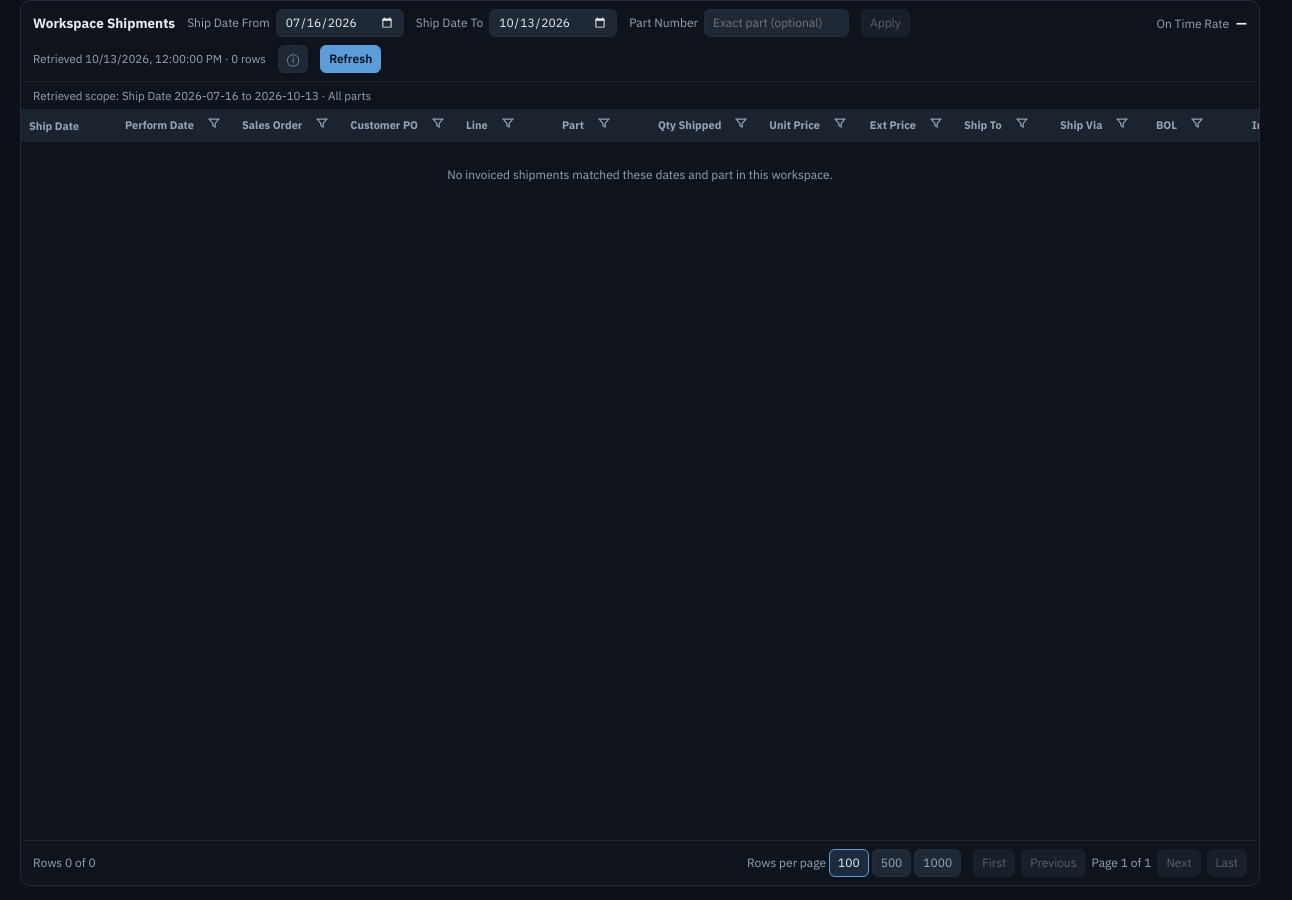
Test: Workspace Shipments panel (mocked generated client only) › states that blank dates mean all available history and rejects an inverted range
Expected: the text "No invoiced shipments matched these dates and part in this workspace." is shown, [447,167,833,182]
Clear the date field labelled "Ship Date From". click: (340, 23)
box: [276,9,404,37]
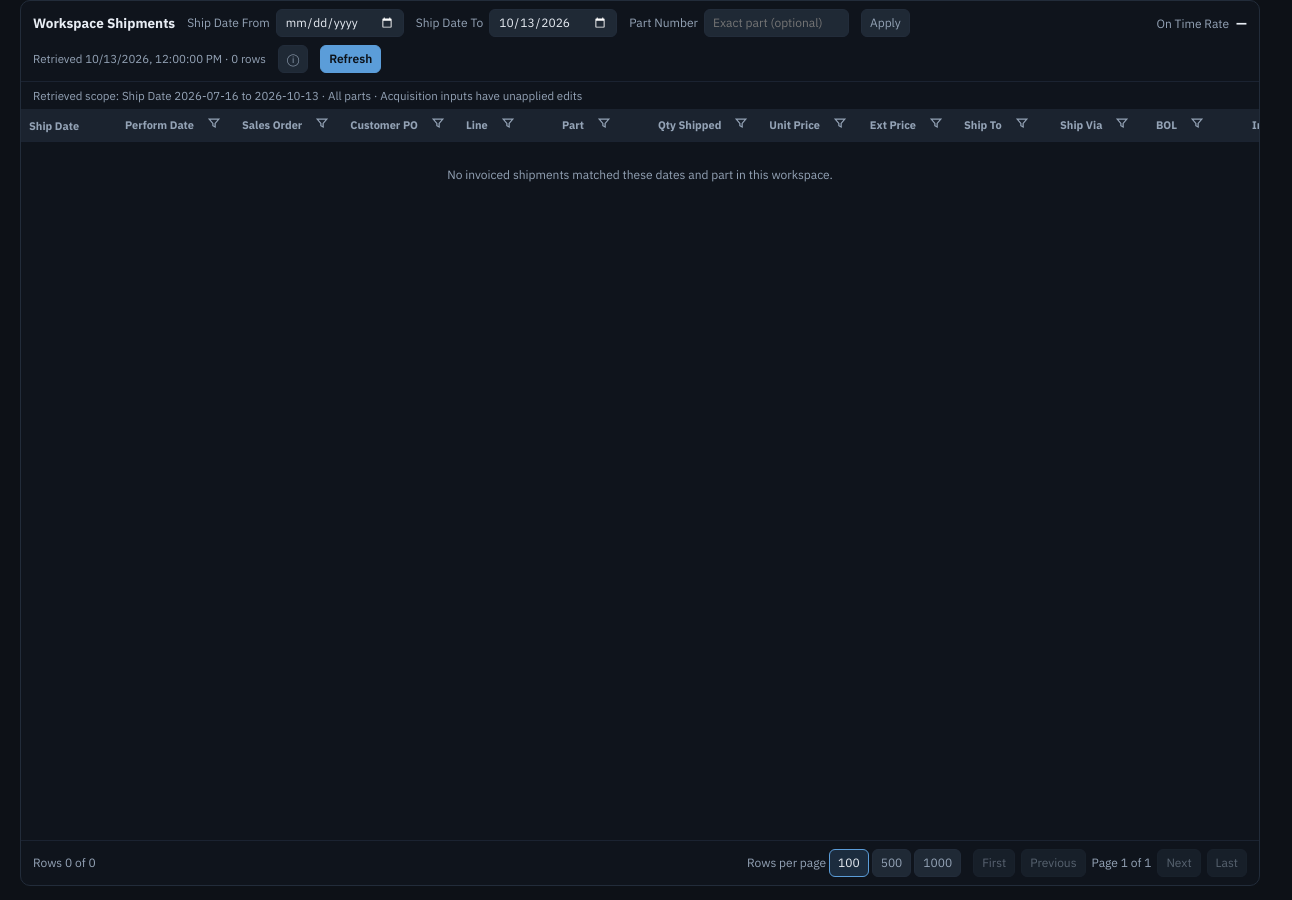
Clear the date field labelled "Ship Date To". click: (553, 23)
box: [489,9,617,37]
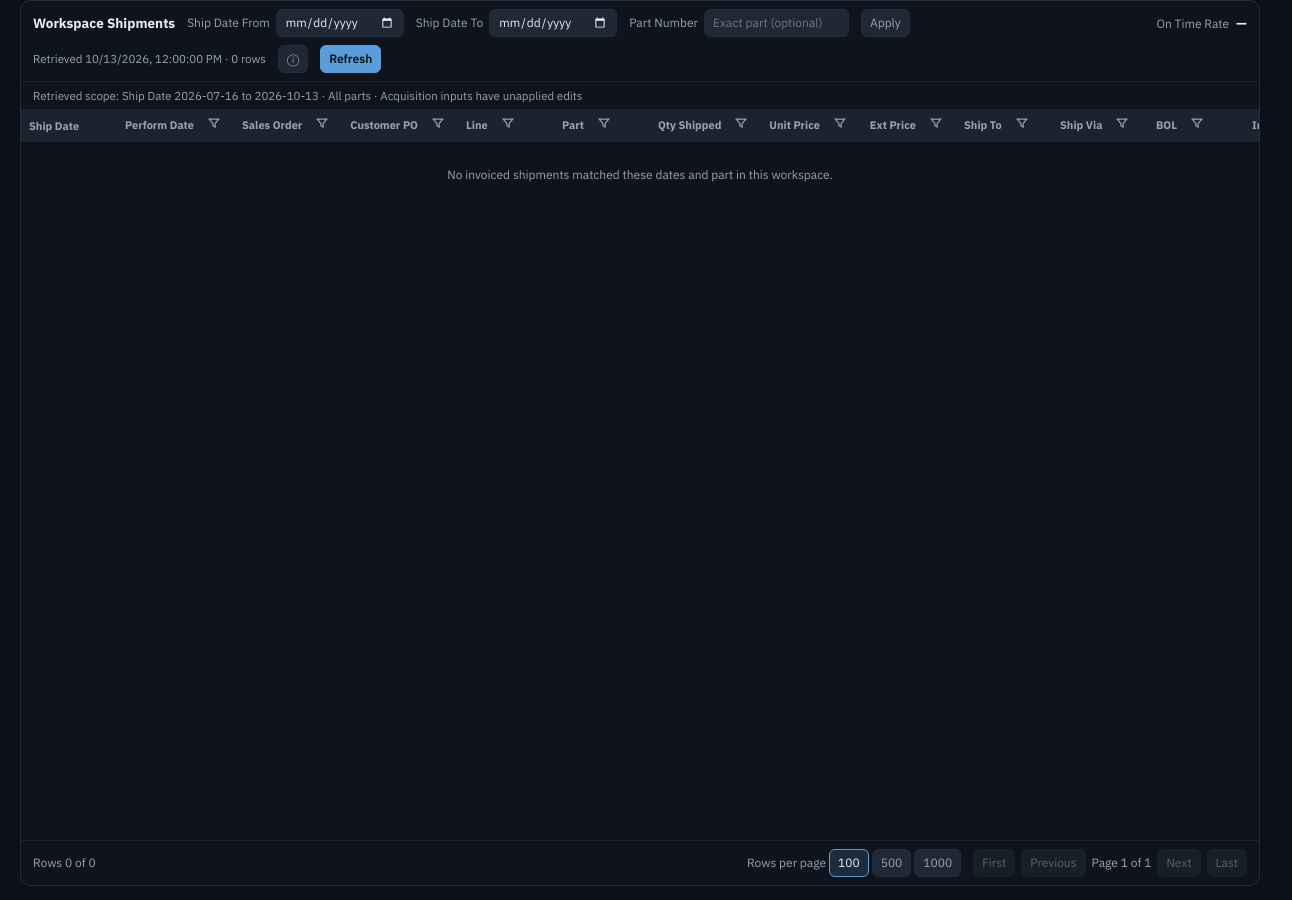
Expected: the text "Retrieved scope:" shows "Ship Date 2026-07-16 to 2026-10-13", [122,88,371,103]
Click the button "Apply". click: (885, 23)
box: [861,9,910,37]
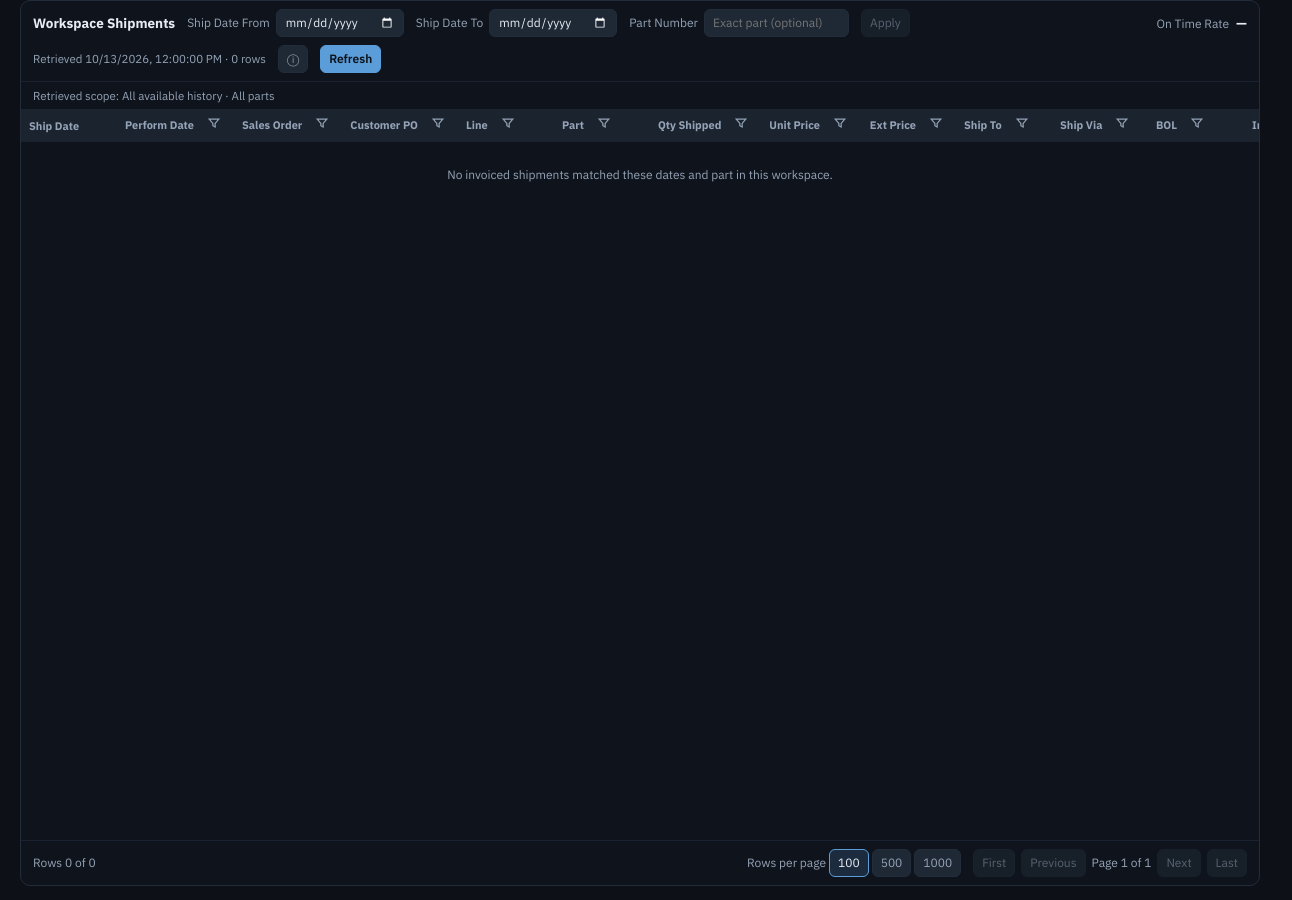
Expected: the text "No invoiced shipments matched these dates and part in this workspace." is shown, [447,167,833,182]
Result: the text "Retrieved scope: All available history · All parts" is shown at [33,88,274,103]
Type "2026-10-02" into the date field labelled "Ship Date From". click: (340, 23)
box: [276,9,404,37]
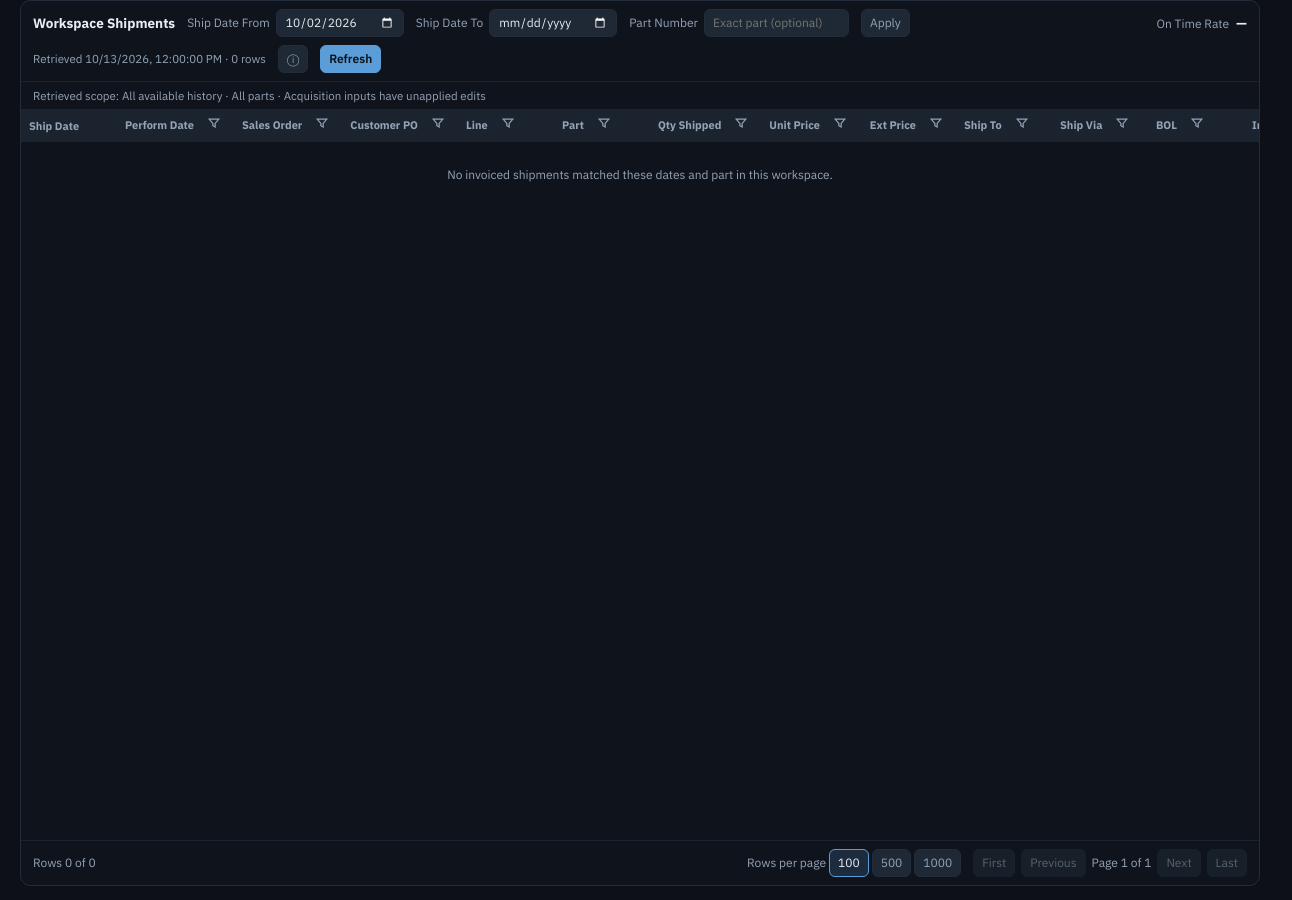
Type "2026-10-01" into the date field labelled "Ship Date To". click: (553, 23)
box: [489,9,617,37]
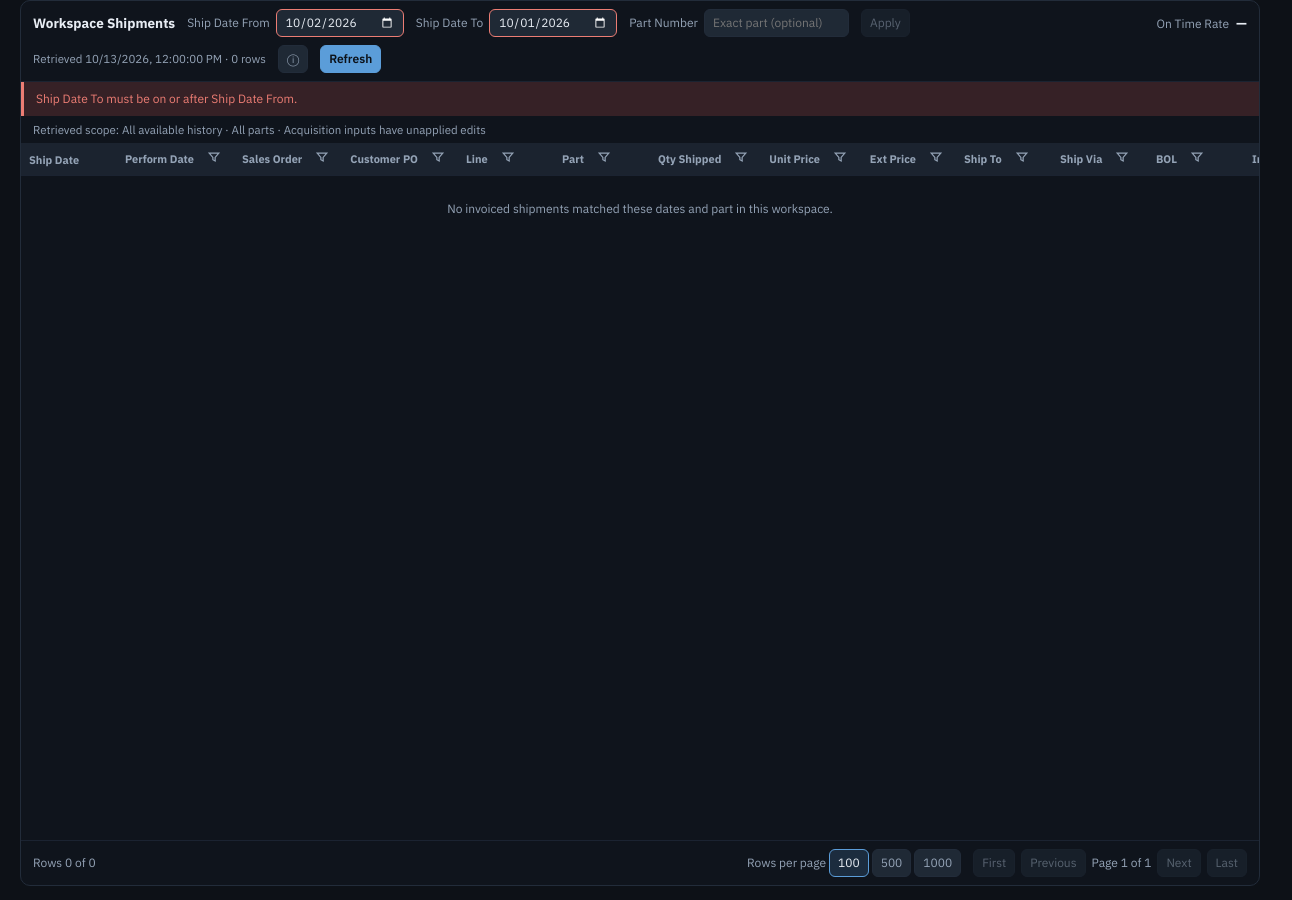
Result: the message "Ship Date To must be on or after Ship Date From." is shown at [21,82,1259,116]
Result: the button "Apply" is disabled at [861,9,910,37]
